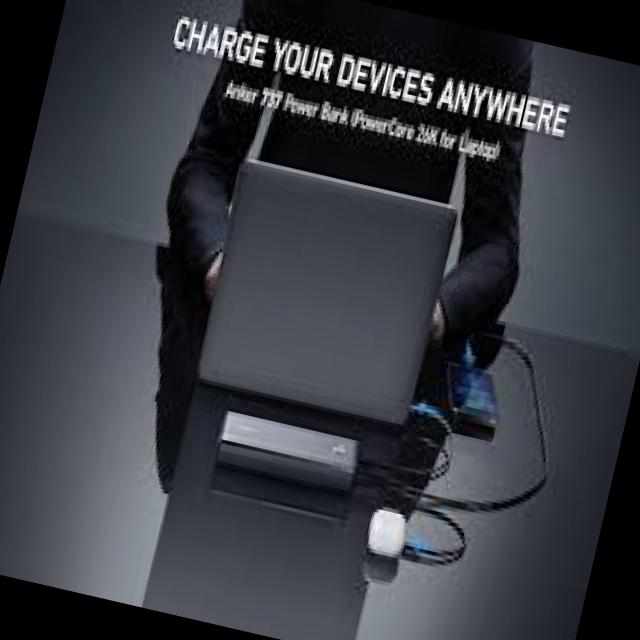portable-charger: (211, 398, 368, 502)
